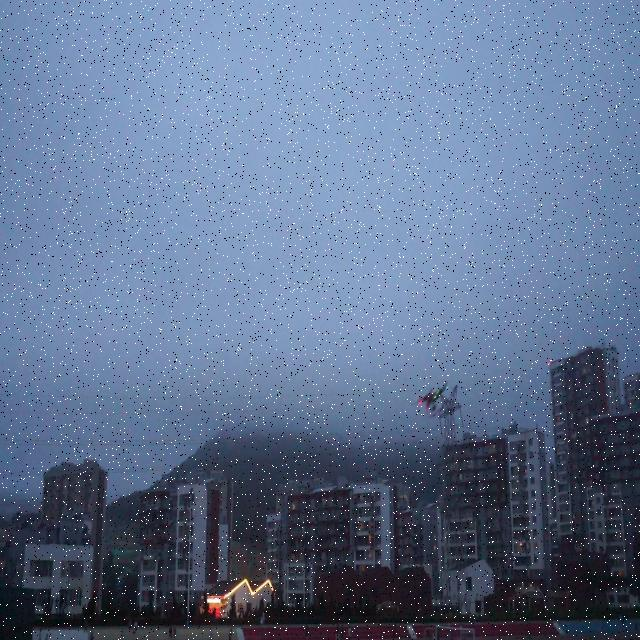UAV: (411, 381, 448, 418)
